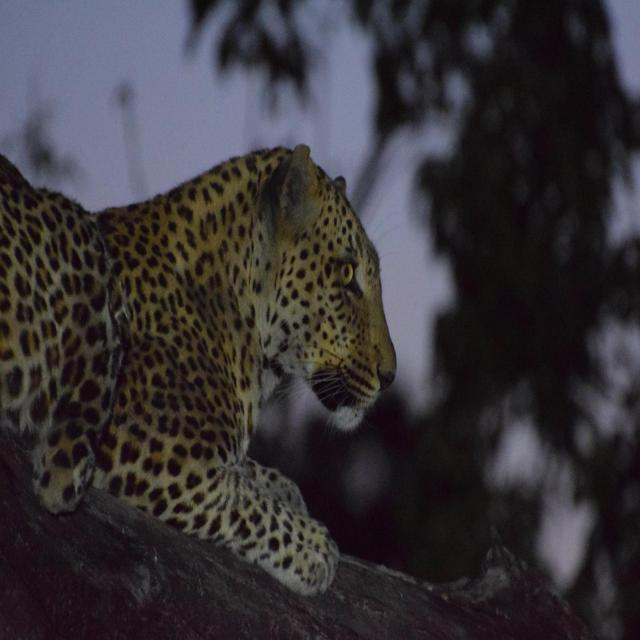Leopard: (1, 130, 408, 624)
